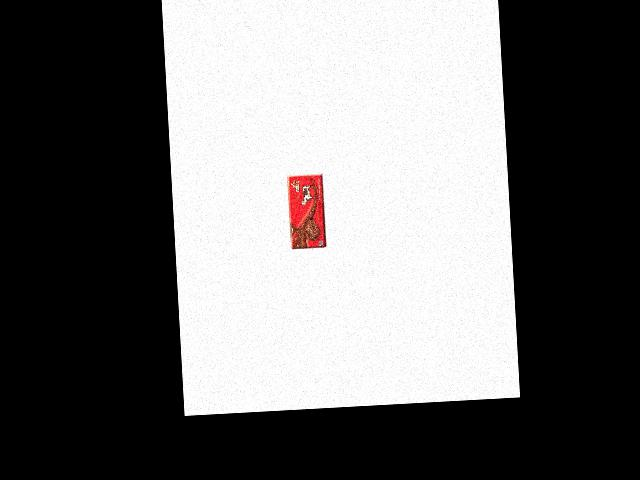chocolate: (285, 170, 330, 251)
